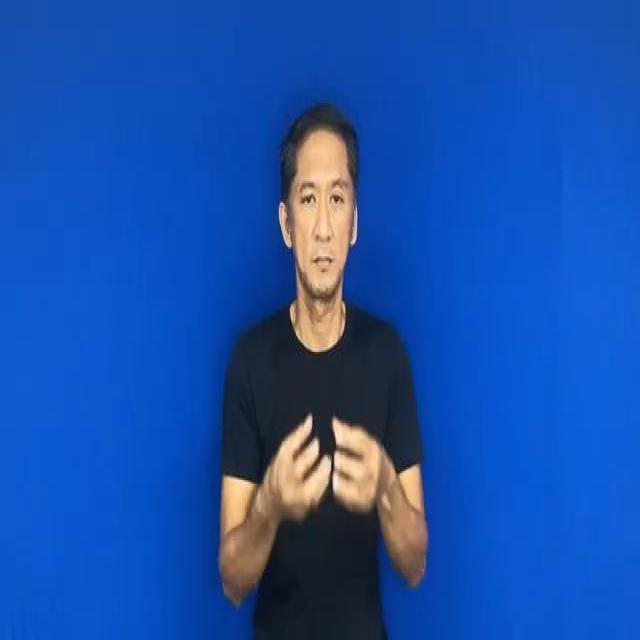egg: (245, 408, 400, 536)
